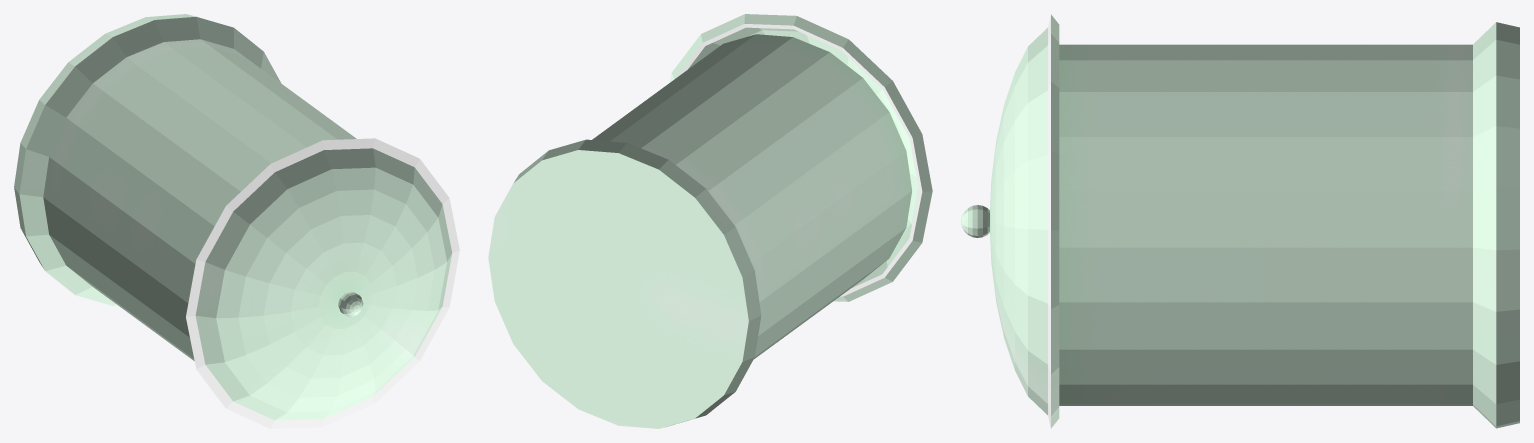
Rendered from model_scale.obj.
3 renders of one model, left to right at view 1: azimuth 30°, elevation 25°; view 2: azimuth 150°, elevation 25°; view 3: azimuth 270°, elevation 25°, orthographic. The views are drawn at different scales.
Parts seen in each view (by area): view 1: mesh3_mesh3-geometry, mesh2_mesh2-geometry, mesh1_mesh1-geometry; view 2: mesh3_mesh3-geometry, mesh2_mesh2-geometry; view 3: mesh3_mesh3-geometry, mesh2_mesh2-geometry, mesh1_mesh1-geometry.
Boxes of the visible parts, bbox=[...] form: mesh3_mesh3-geometry: bbox=[14, 14, 356, 360]; mesh2_mesh2-geometry: bbox=[186, 138, 459, 428]; mesh1_mesh1-geometry: bbox=[338, 291, 363, 316]; mesh3_mesh3-geometry: bbox=[488, 34, 912, 428]; mesh2_mesh2-geometry: bbox=[669, 14, 932, 301]; mesh3_mesh3-geometry: bbox=[1059, 22, 1519, 428]; mesh2_mesh2-geometry: bbox=[990, 14, 1059, 428]; mesh1_mesh1-geometry: bbox=[961, 205, 989, 237].
Size of the model in its own units: 0.1425 by 0.1426 by 0.1918.
Materials: 3 (2 with a texture image).
